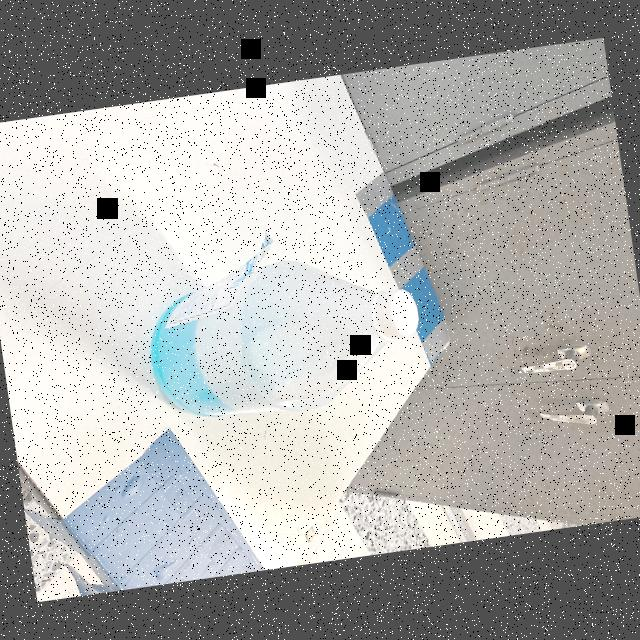chemical_plastic_gallon: (129, 248, 437, 438)
